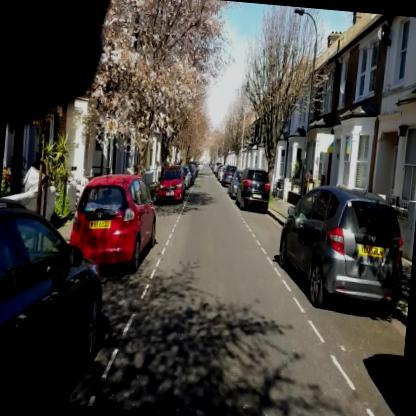car: (0, 201, 112, 407), (275, 181, 410, 318), (67, 169, 161, 278), (236, 167, 272, 213), (157, 164, 187, 206), (229, 169, 243, 199), (220, 164, 237, 188)
